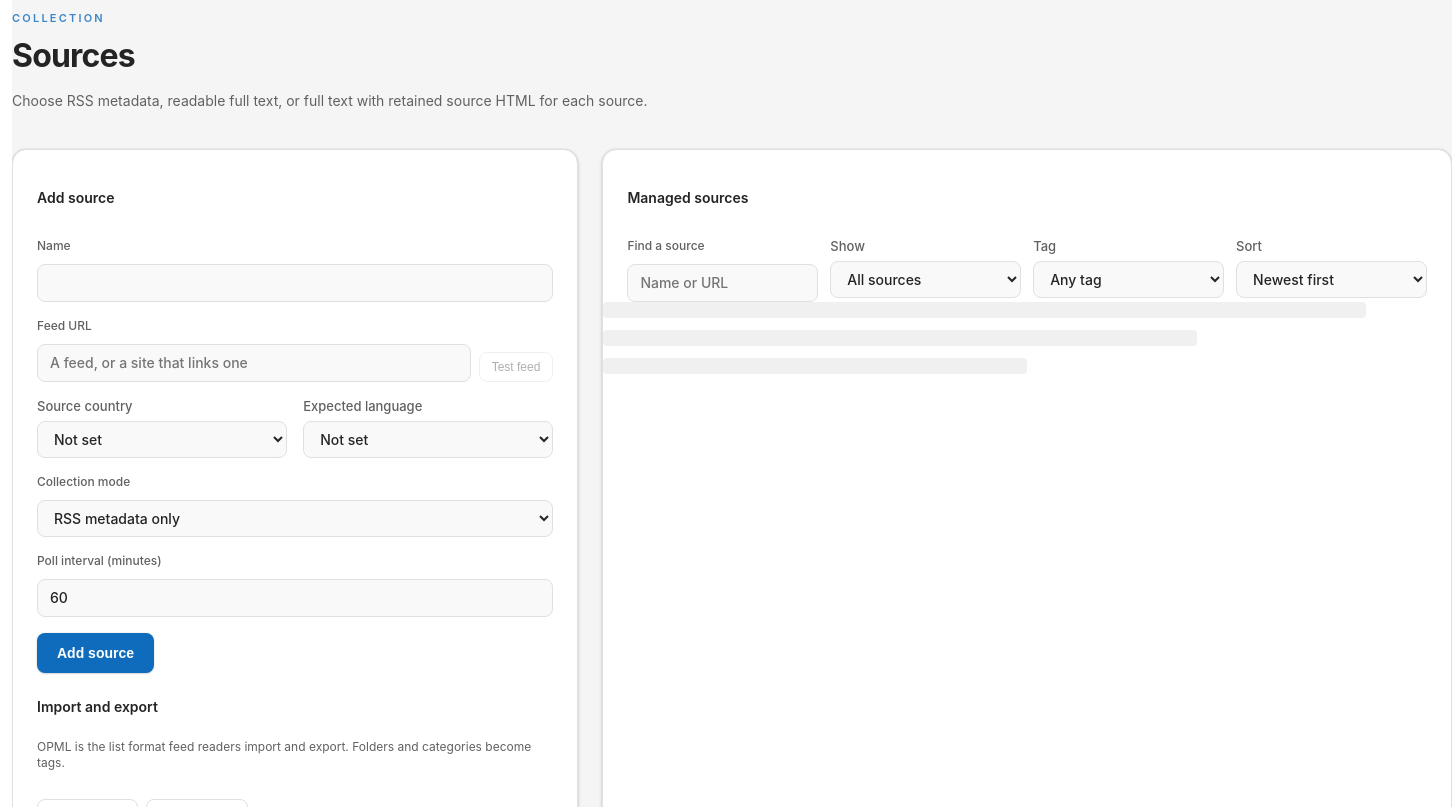
Test case: says why a source could not be added
Type "Wire two" into the field labelled "Name". click: (295, 283)
box: [37,264,553,302]
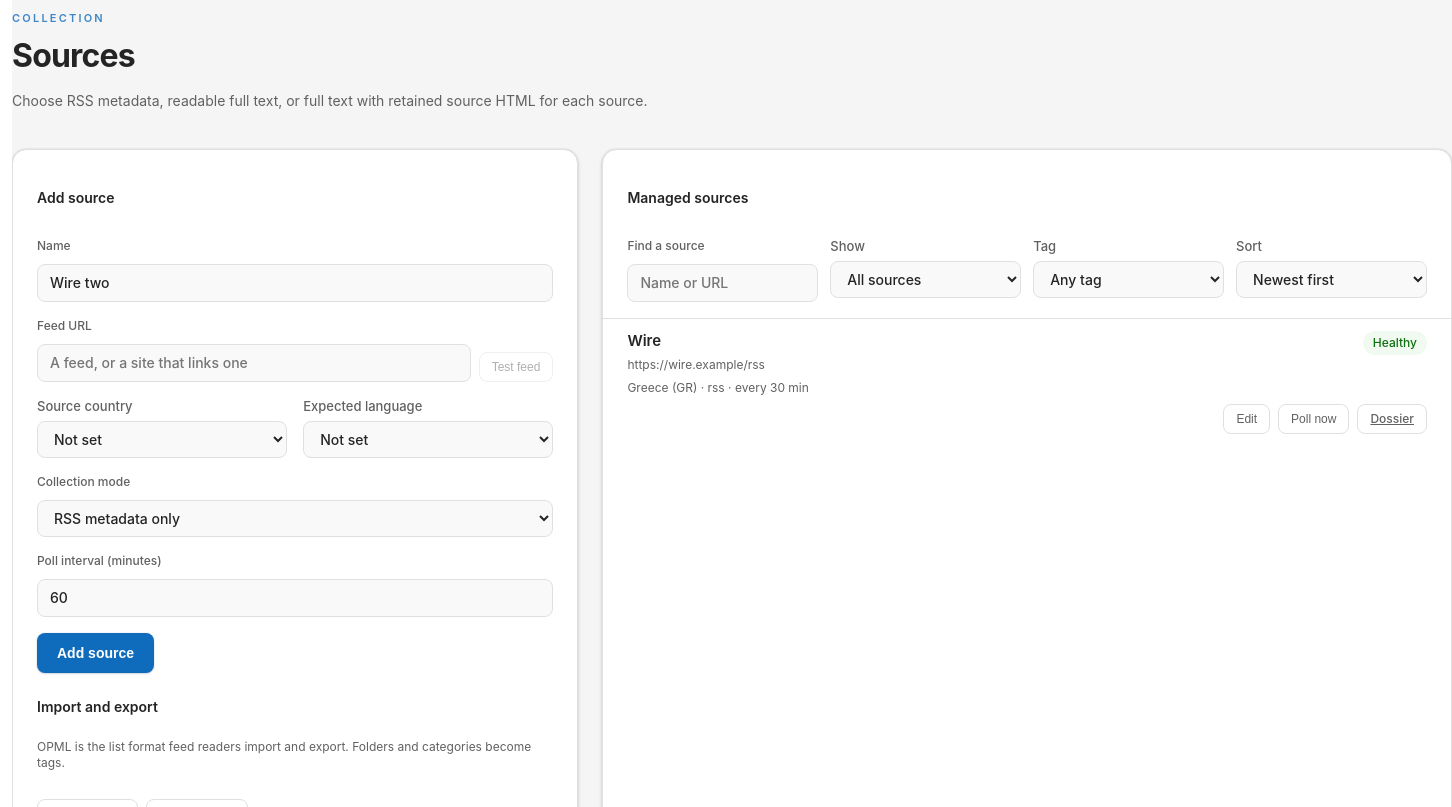
Type "https://two.example/rss" into the field labelled "Feed URL". click: (254, 363)
box: [37,344,471,382]
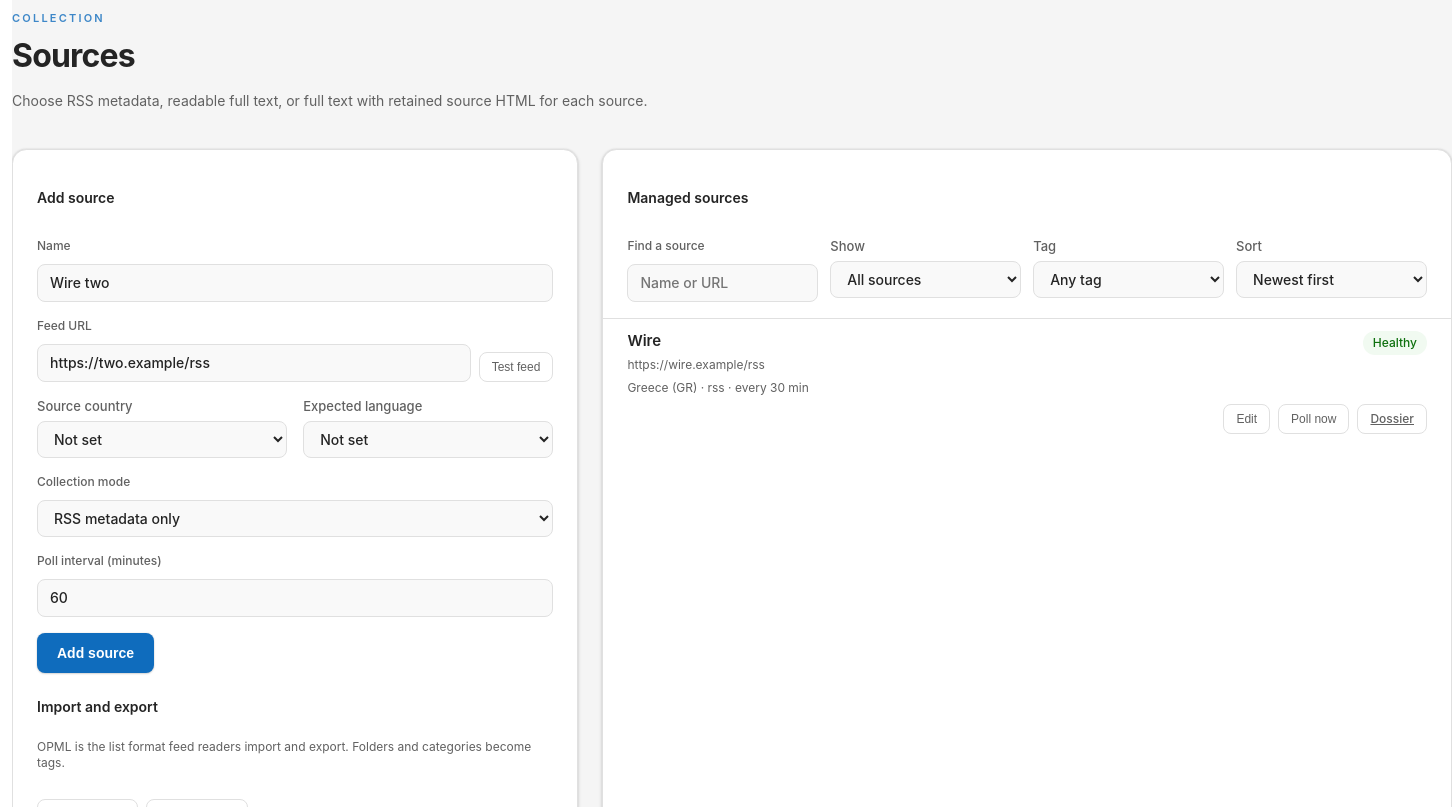
Click the button "Add source". click: (96, 653)
box: [37,633,154,673]
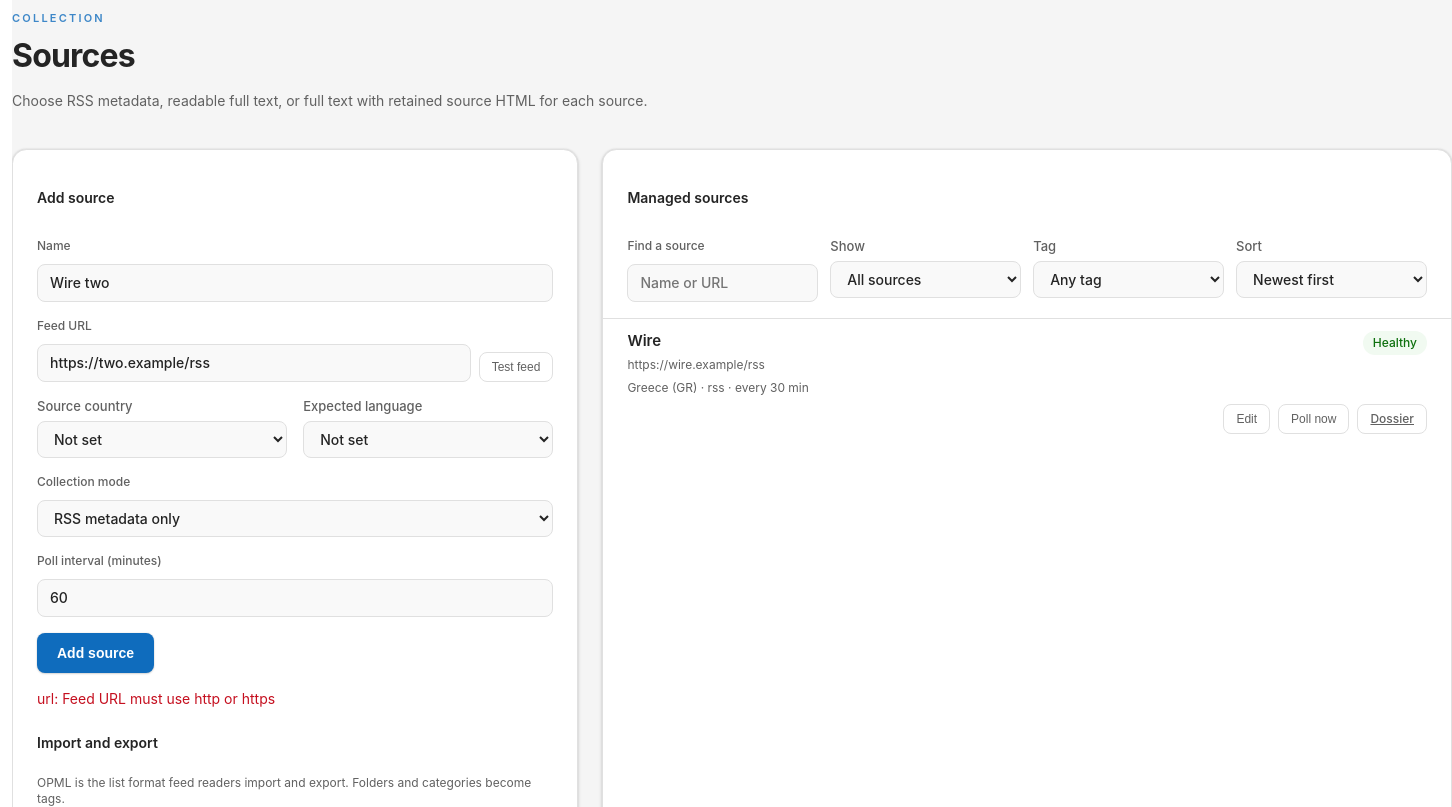
Expected: the message reads "url: Feed URL must use http or https", [37,690,275,707]
